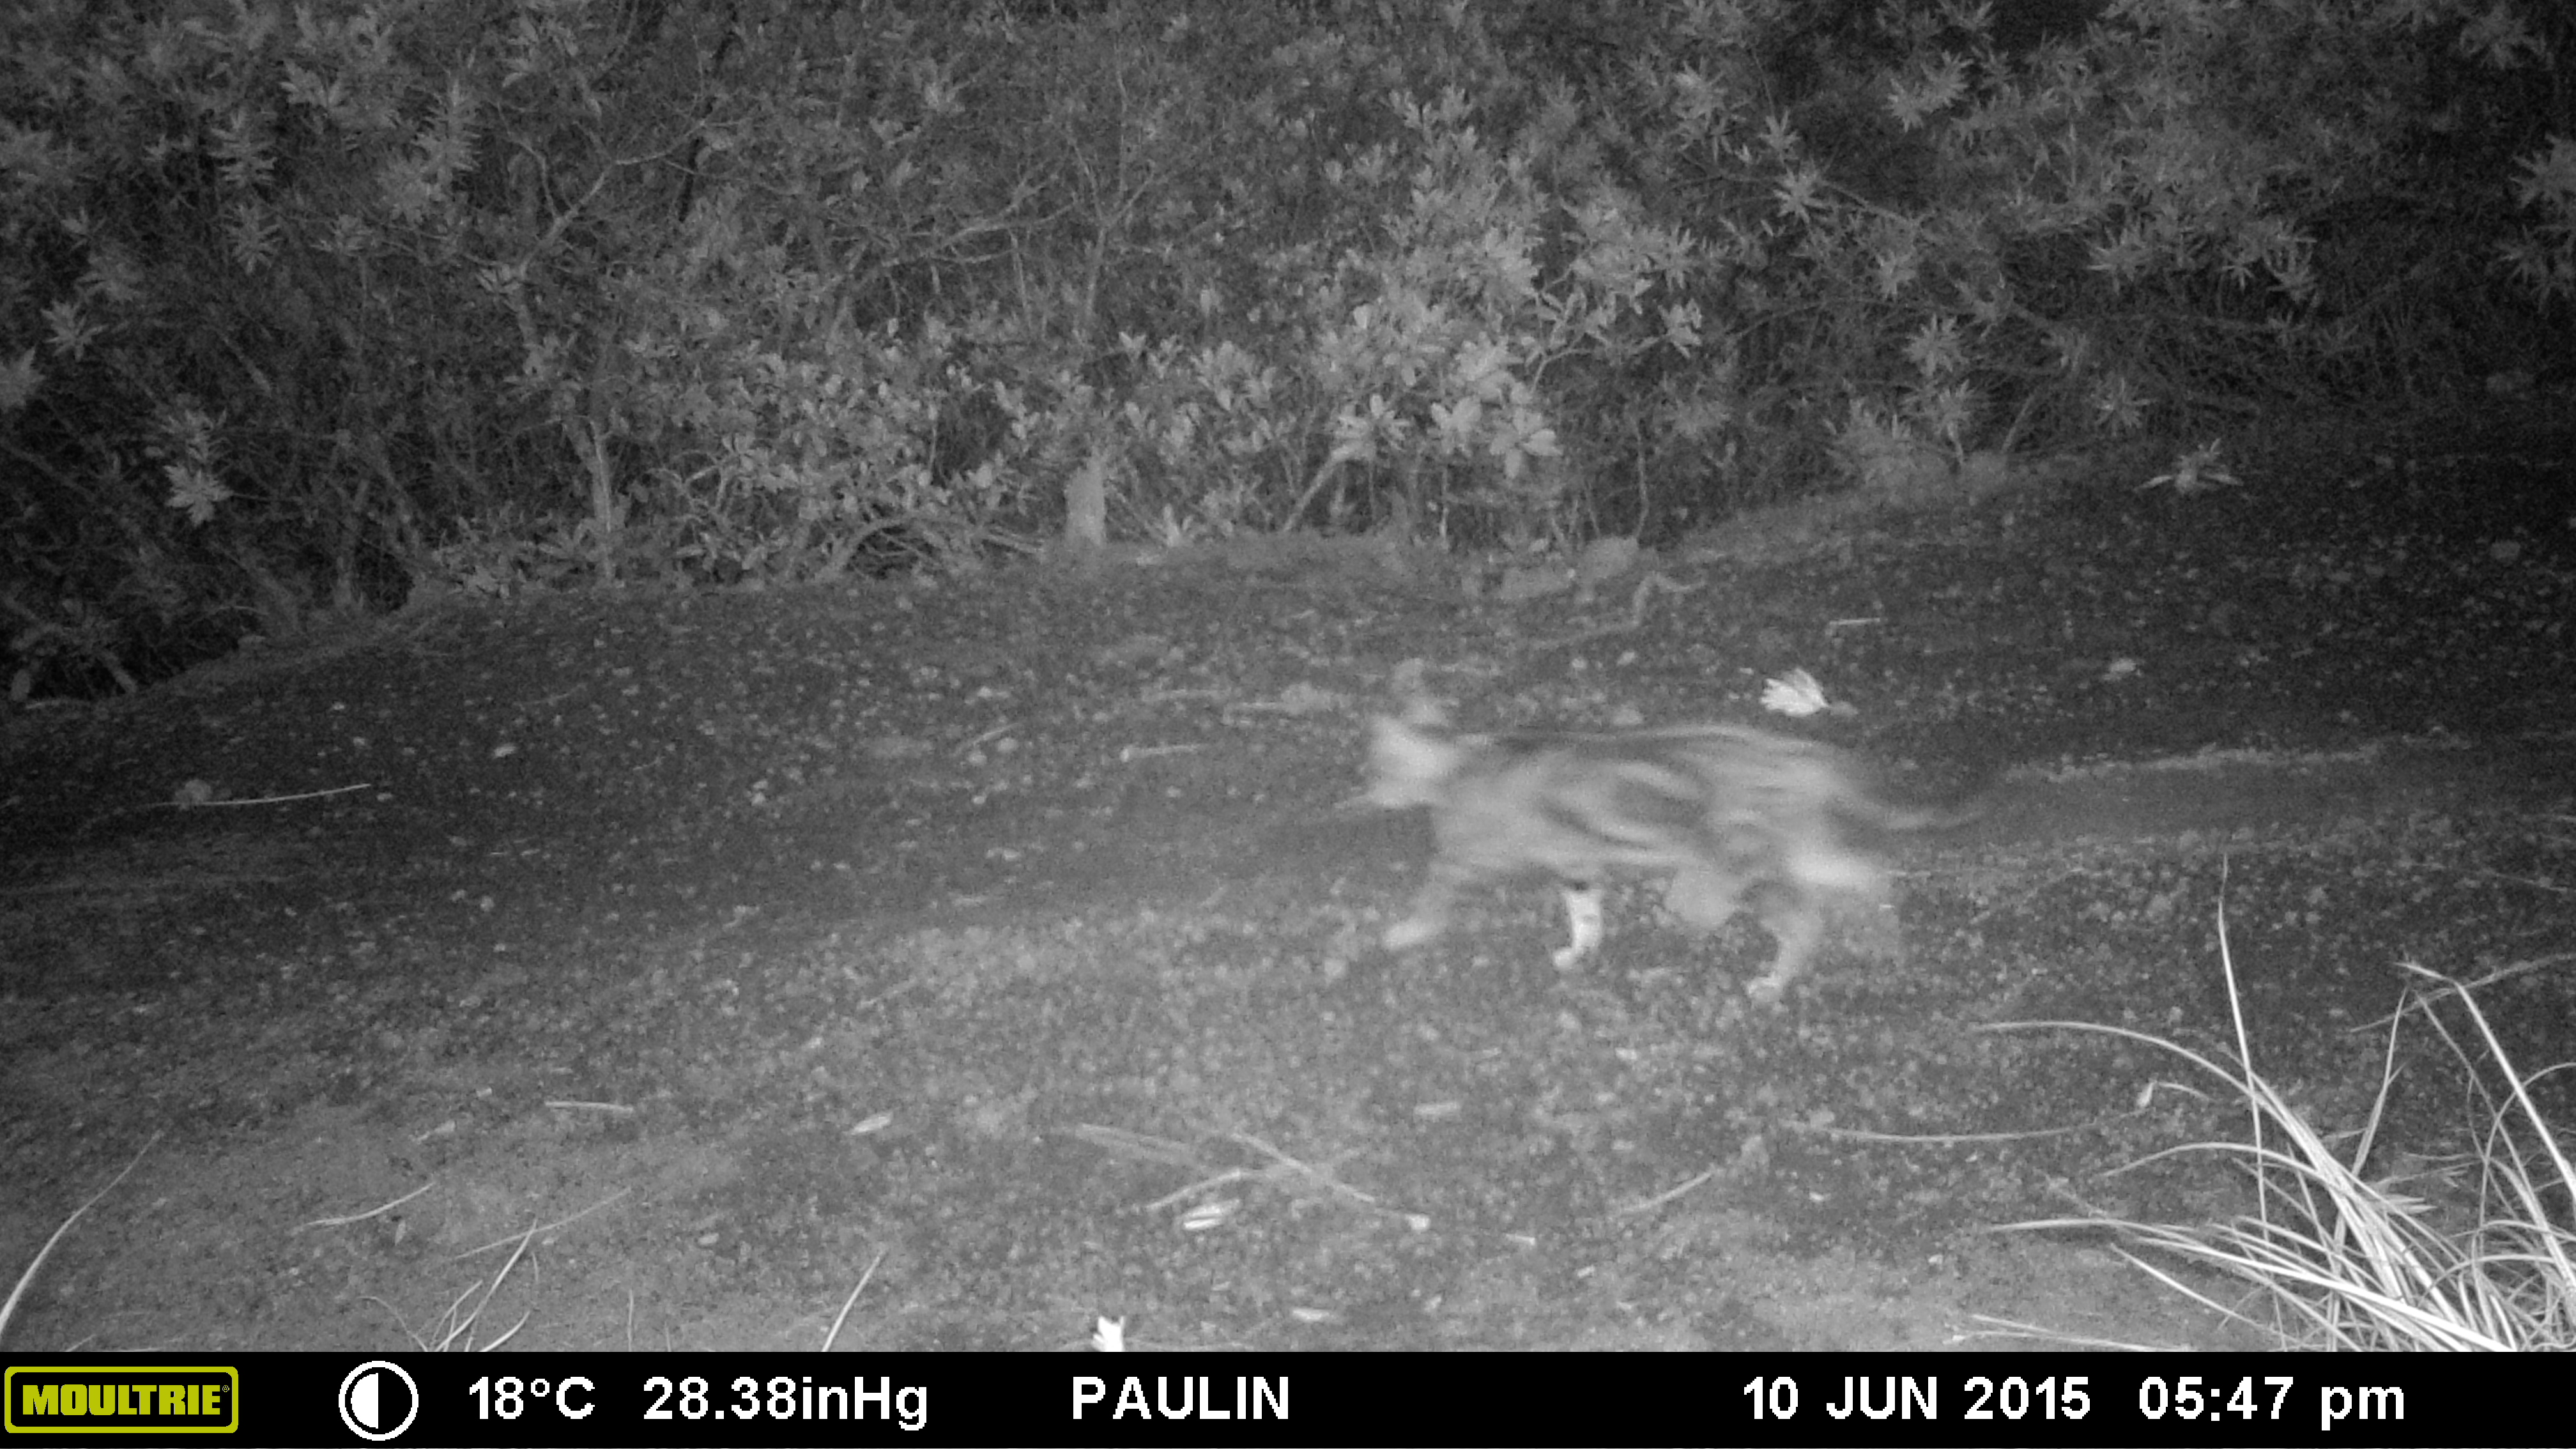cat: (1343, 679, 2015, 1024)
